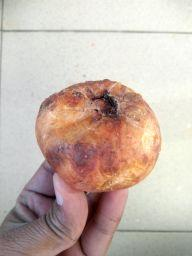guava: (33, 74, 163, 195)
